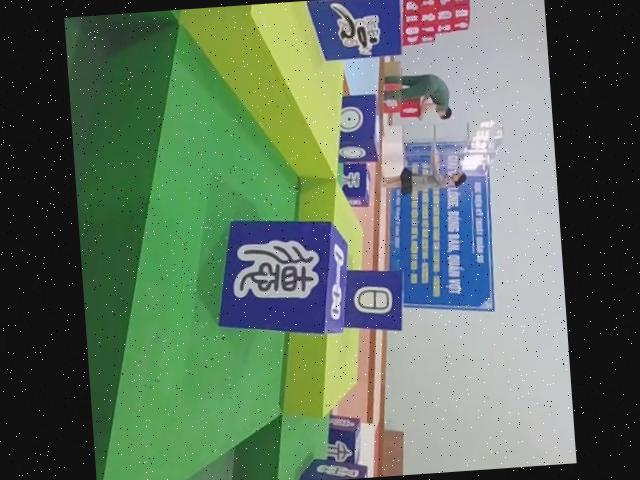R1 Blue: (304, 0, 409, 59)
R2 Fake Blue: (210, 212, 352, 342), (337, 264, 405, 332), (324, 412, 364, 467)
R2 Real Blue: (332, 92, 382, 163), (286, 456, 366, 480), (338, 161, 372, 207)
